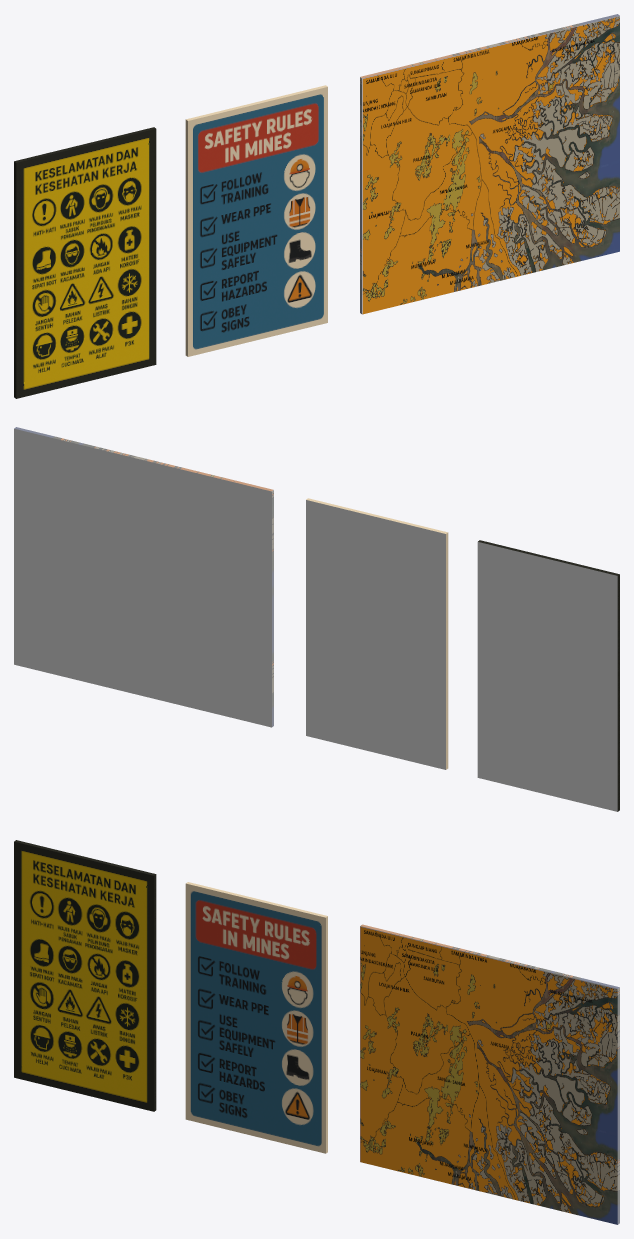
The model's file is Poster.fbx.
3 views of the same model, one above another, from view 1: azimuth 30°, elevation 25°; view 2: azimuth 150°, elevation 25°; view 3: azimuth 330°, elevation 25° (orthographic).
Parts seen in each view (by area): view 1: Poster2, Poster1, Poster3; view 2: Poster2, Poster1, Poster3; view 3: Poster2, Poster1, Poster3.
Part boxes in pixels (x1,y1,x2,y2): Poster2: (360, 14, 619, 314); Poster1: (14, 127, 156, 398); Poster3: (185, 85, 327, 356); Poster2: (14, 427, 273, 727); Poster1: (477, 540, 619, 811); Poster3: (306, 498, 448, 769); Poster2: (360, 924, 619, 1224); Poster1: (14, 840, 156, 1111); Poster3: (185, 882, 327, 1153).
Size of the model in its own units: 861 by 322 by 5.51.
